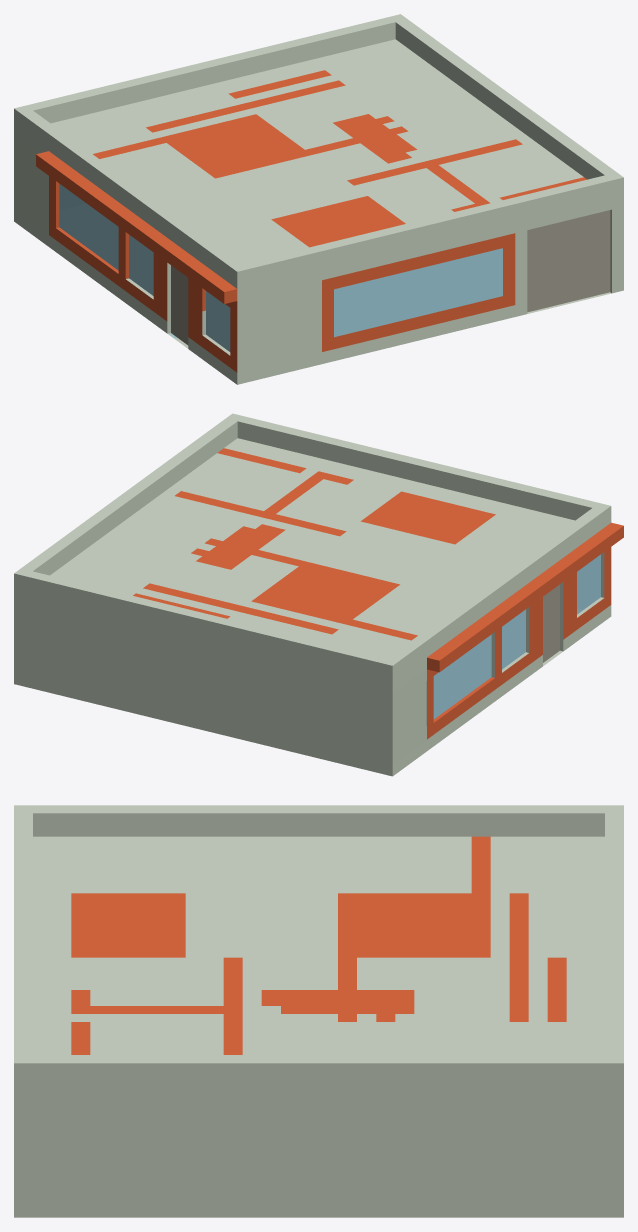
File: casa_1piso2.glb
3 renders of one model, top to bottom at view 1: azimuth 30°, elevation 25°; view 2: azimuth 150°, elevation 25°; view 3: azimuth 270°, elevation 25°, orthographic. The views are drawn at different scales.
Parts seen in each view (by area): view 1: Cubo; view 2: Cubo; view 3: Cubo.
Part boxes in pixels (left/top/right/bottom): Cubo: left=14, top=14, right=623, bottom=384; Cubo: left=14, top=413, right=623, bottom=776; Cubo: left=14, top=805, right=623, bottom=1217.
Size of what is drawn, in the model's own units: 18.33 by 4.95 by 17.73.
